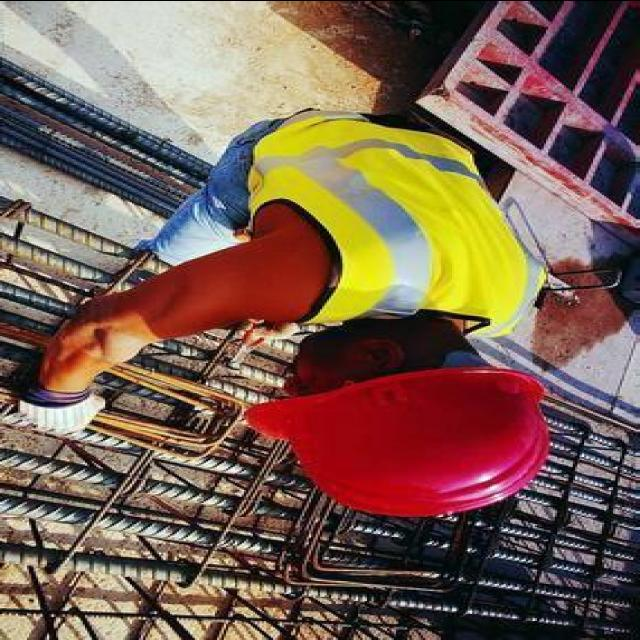helmet: (254, 358, 586, 522)
jacket: (282, 109, 552, 342)
